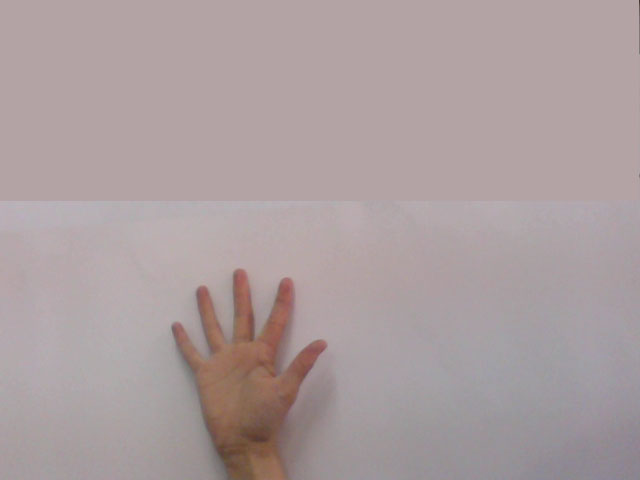hand: (162, 259, 335, 441)
